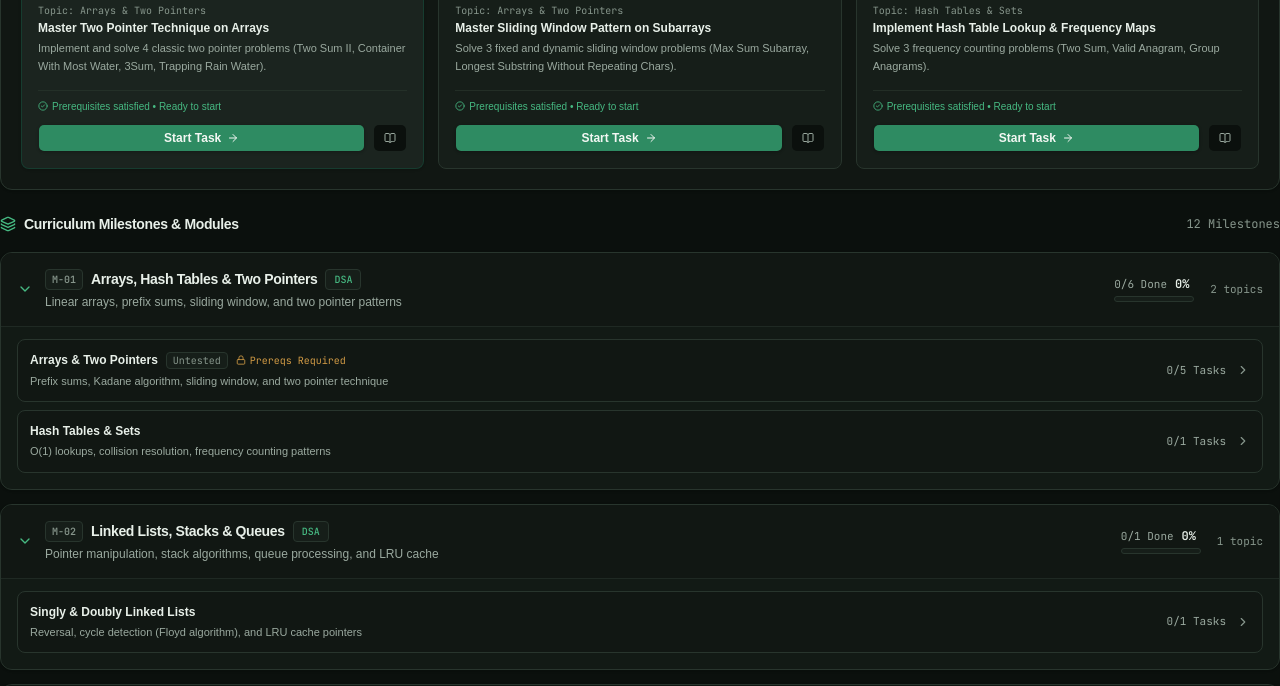
Test: F-UI-PRE-NAV: multi-level dependency chain › C blames B, B blames A, and the trail exposes the whole chain
(page scrolled)
Click the text "Arrays & Two Pointers" at {"x": 94, "y": 360}, box [30,352,158,368]
(page scrolled)
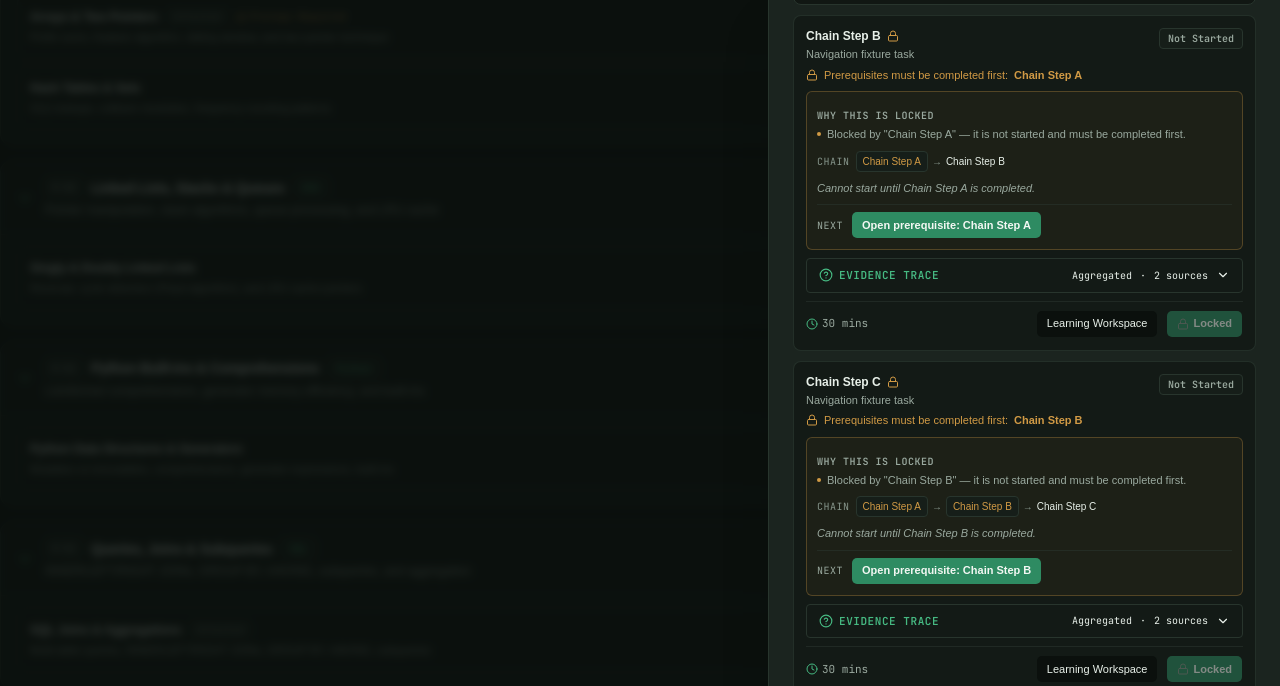
Expected: the list item with test id "lock-blocker-chain-c-0" shows "Chain Step B", [827,474,1186,486]
Expected: the text with test id "lock-why-chain-c" reads "Cannot start until Chain Step B is completed.", [817,527,1036,539]
Expected: the list item with test id "lock-blocker-chain-b-0" shows "Chain Step A", [827,128,1186,140]
